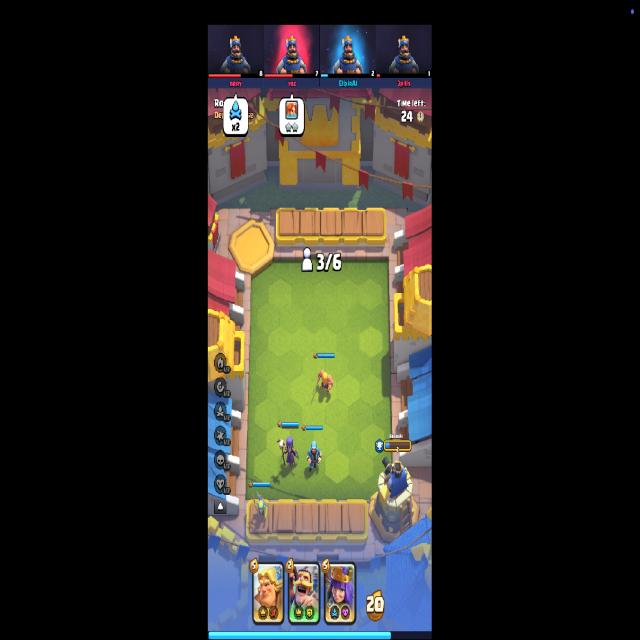barbarian: (311, 370, 334, 398)
card_archer_queen: (324, 561, 356, 626)
card_golden_knight: (252, 561, 284, 626)
card_knight: (287, 560, 321, 626)
spear_goblin: (252, 492, 268, 520)
witch: (277, 436, 299, 470)
wizard: (306, 441, 322, 471)
